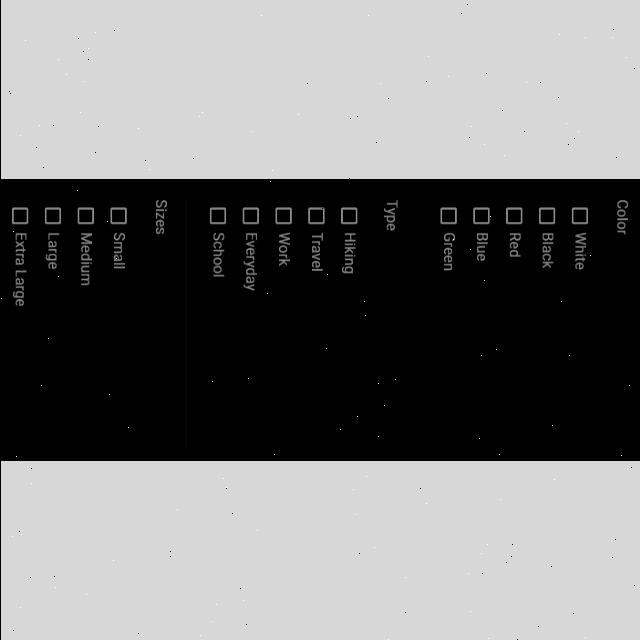QLabel: (10, 232, 28, 308), (242, 232, 258, 292), (79, 232, 93, 286), (212, 231, 226, 279), (342, 232, 356, 276), (112, 230, 126, 272), (573, 232, 587, 272), (46, 231, 60, 271), (614, 198, 628, 236), (382, 200, 398, 232), (540, 232, 554, 268), (310, 233, 322, 273), (278, 230, 290, 270), (442, 232, 454, 272), (154, 198, 166, 236), (476, 232, 488, 262), (508, 232, 520, 258)
VCheckbox: (109, 206, 128, 224), (538, 207, 556, 226), (274, 207, 292, 225), (340, 207, 358, 225), (10, 207, 28, 225), (208, 208, 226, 225), (570, 208, 588, 225), (241, 208, 259, 225), (472, 208, 490, 225), (44, 208, 61, 225), (439, 208, 456, 225), (78, 207, 94, 225), (308, 208, 324, 225), (506, 208, 522, 225)
VDivider: (414, 200, 418, 452), (185, 194, 188, 458)
